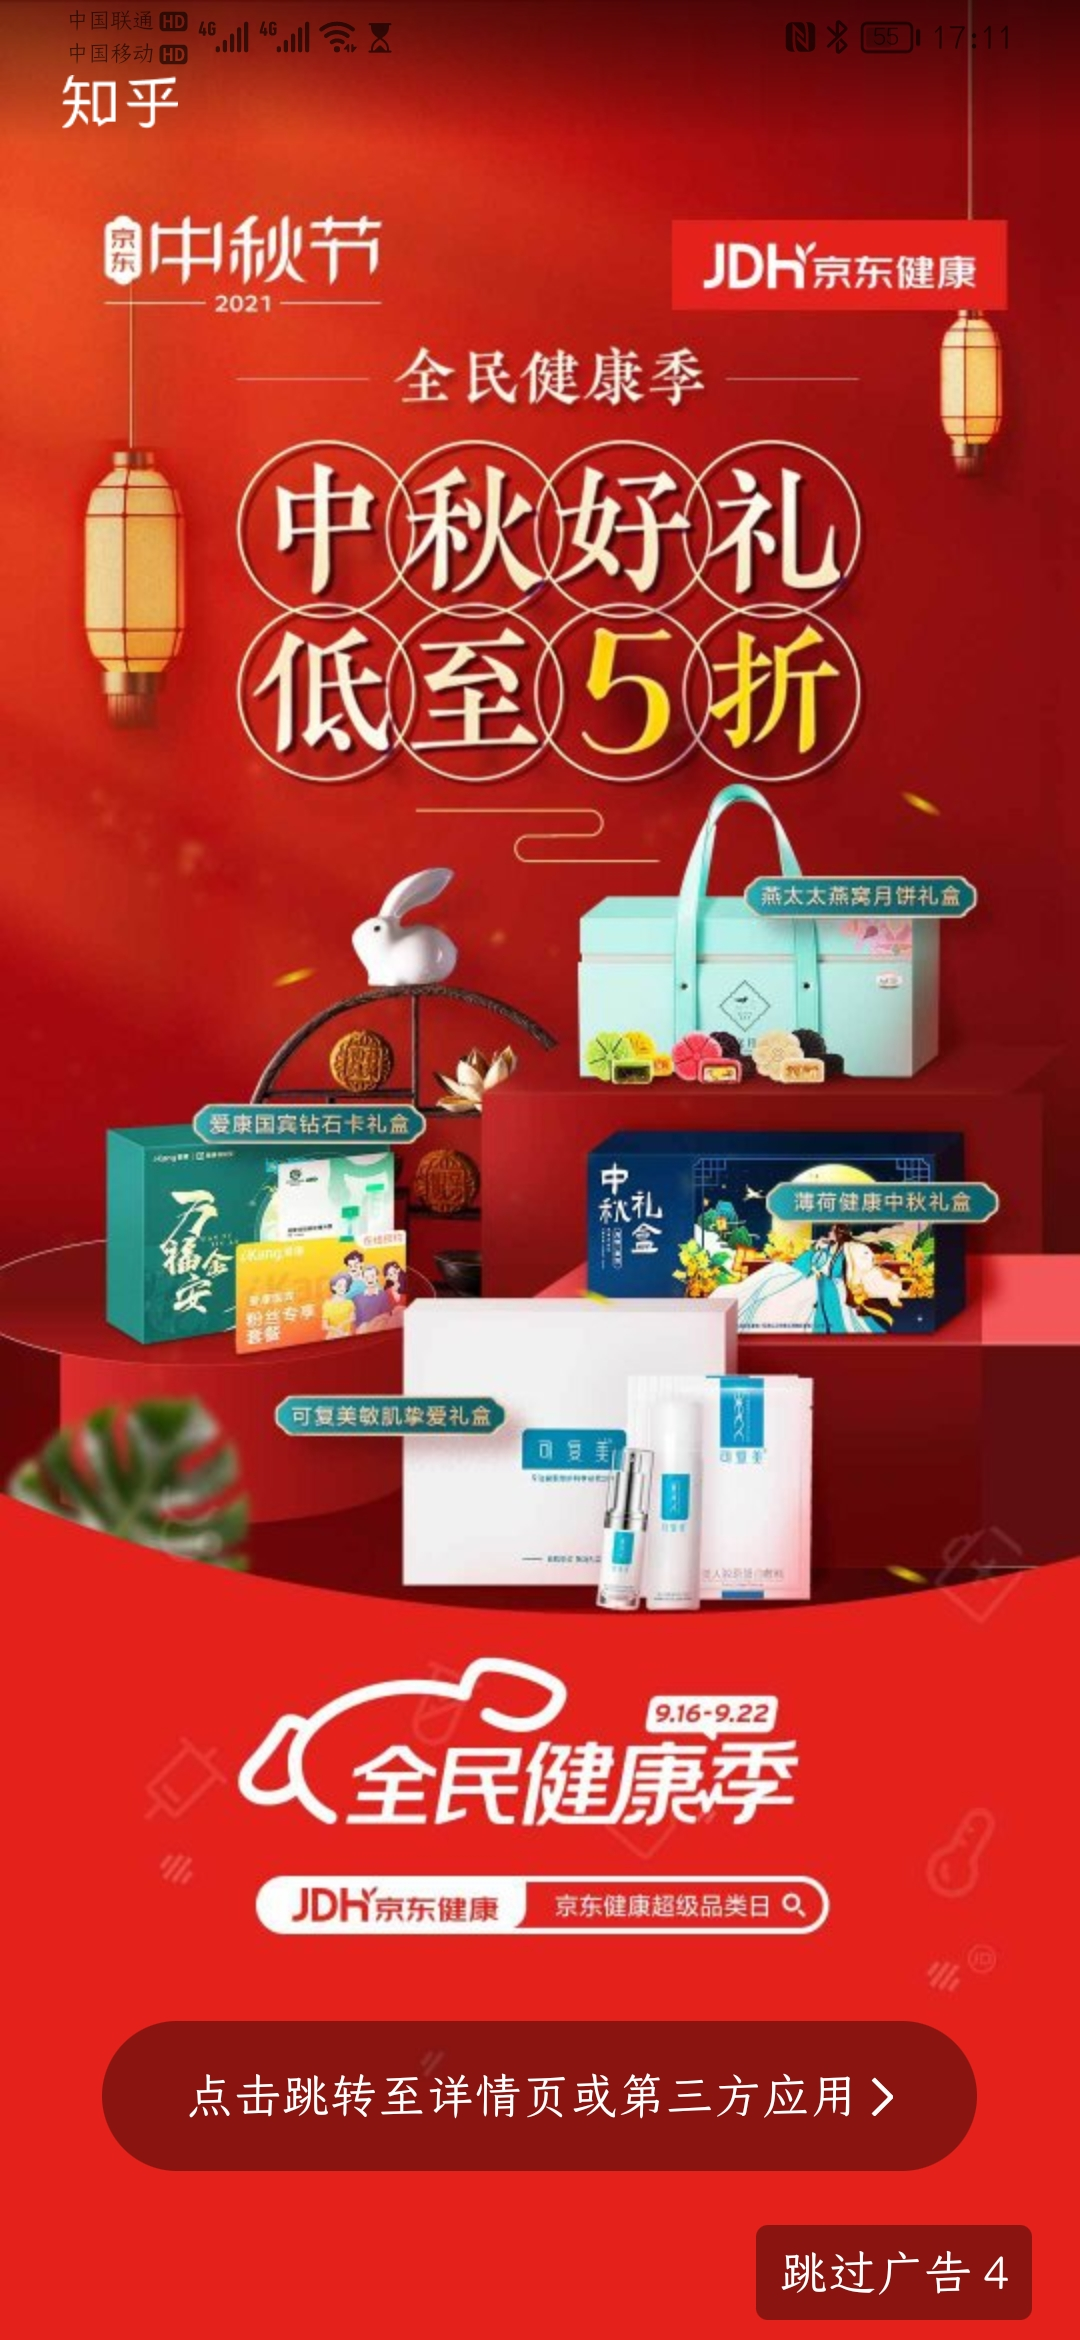skip: (765, 2228, 1023, 2315)
